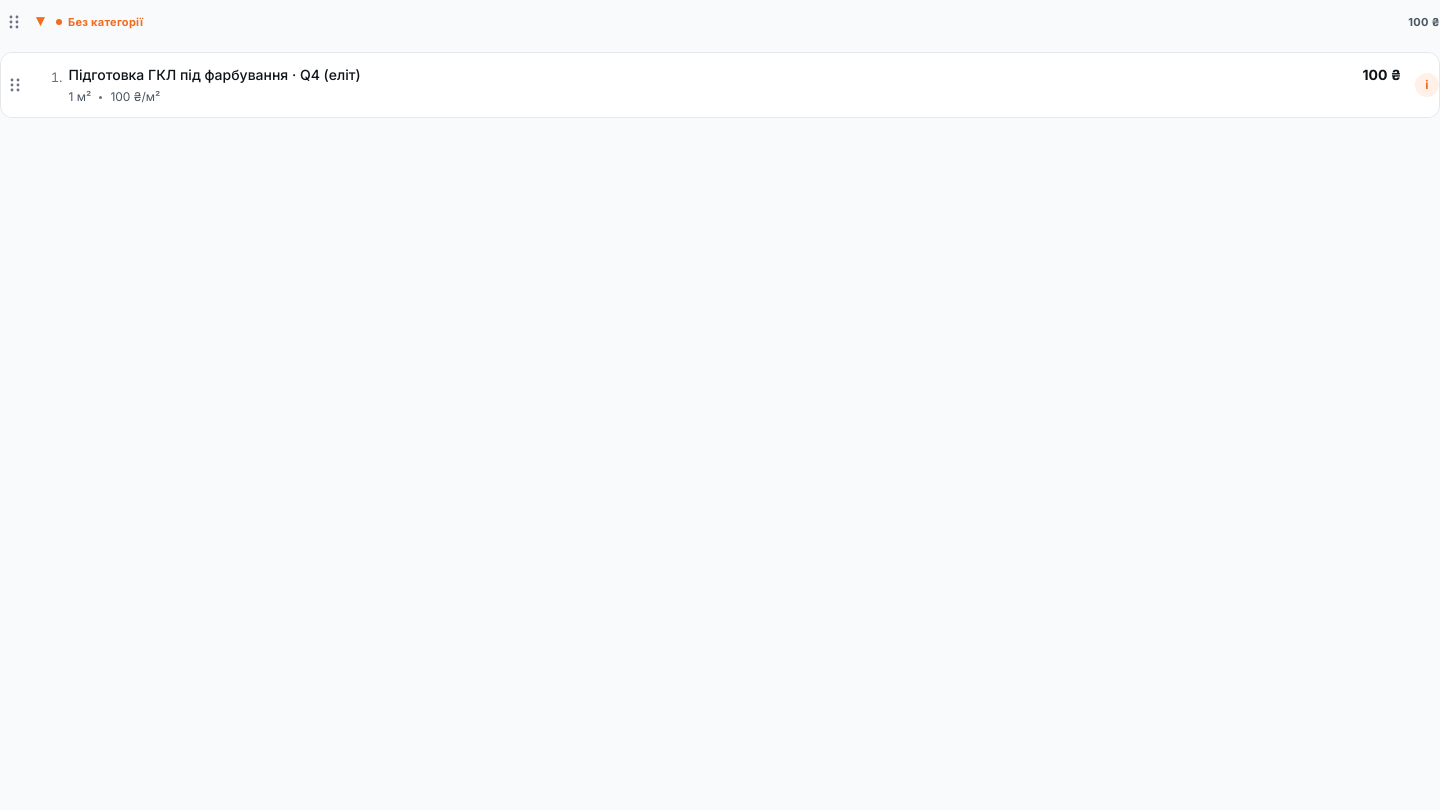
Scenario: EstimateItemsBoard — the explanation a line carries from the catalog › keeps the explanation behind an (i), never inline under the name
Expected: the text "Найвищий рівень: під глянцеву фарбу." is not shown
Click the button "i": (1427, 85) [1415,73,1439,97]
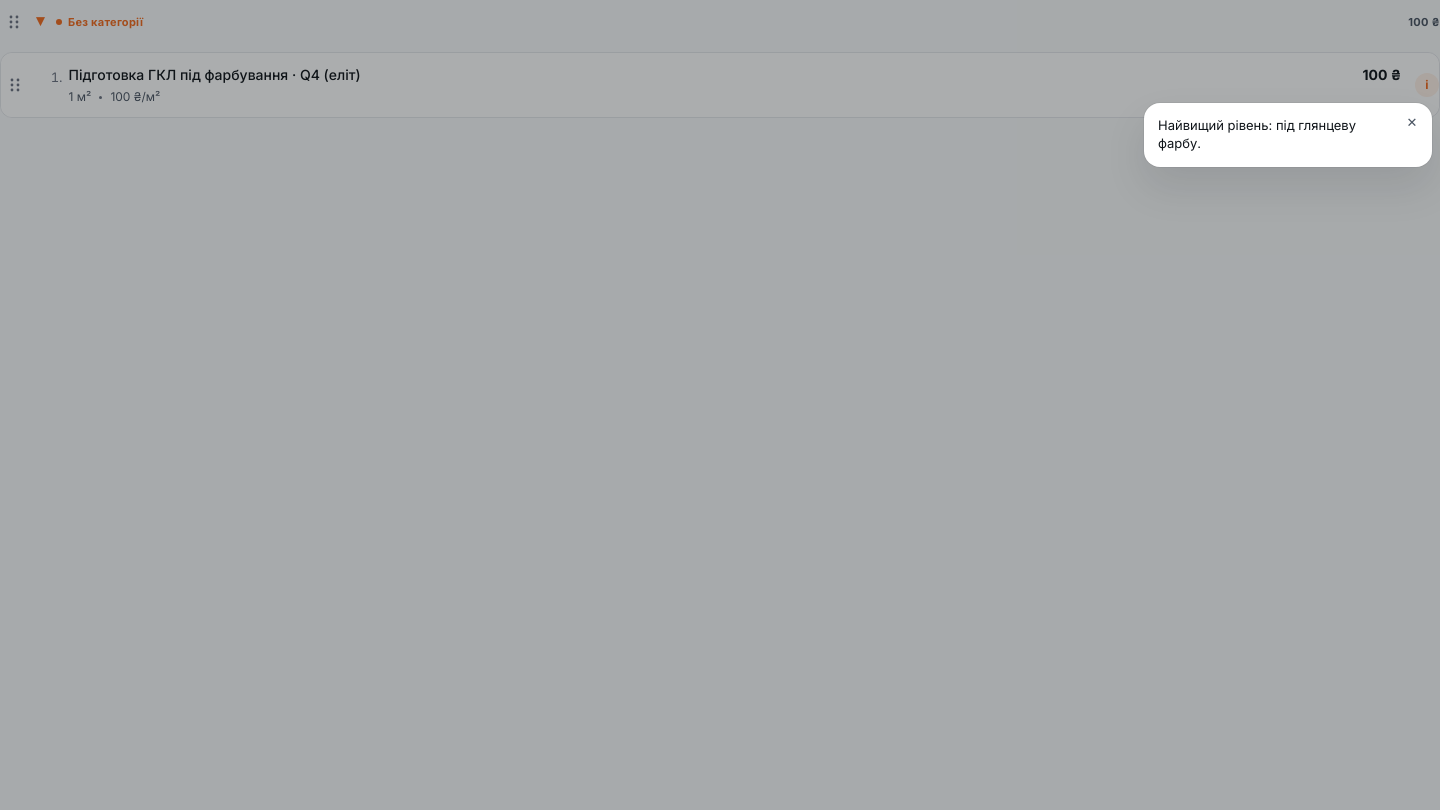
Expected: the text "Найвищий рівень: під глянцеву фарбу." is shown, [1158,117,1356,151]
